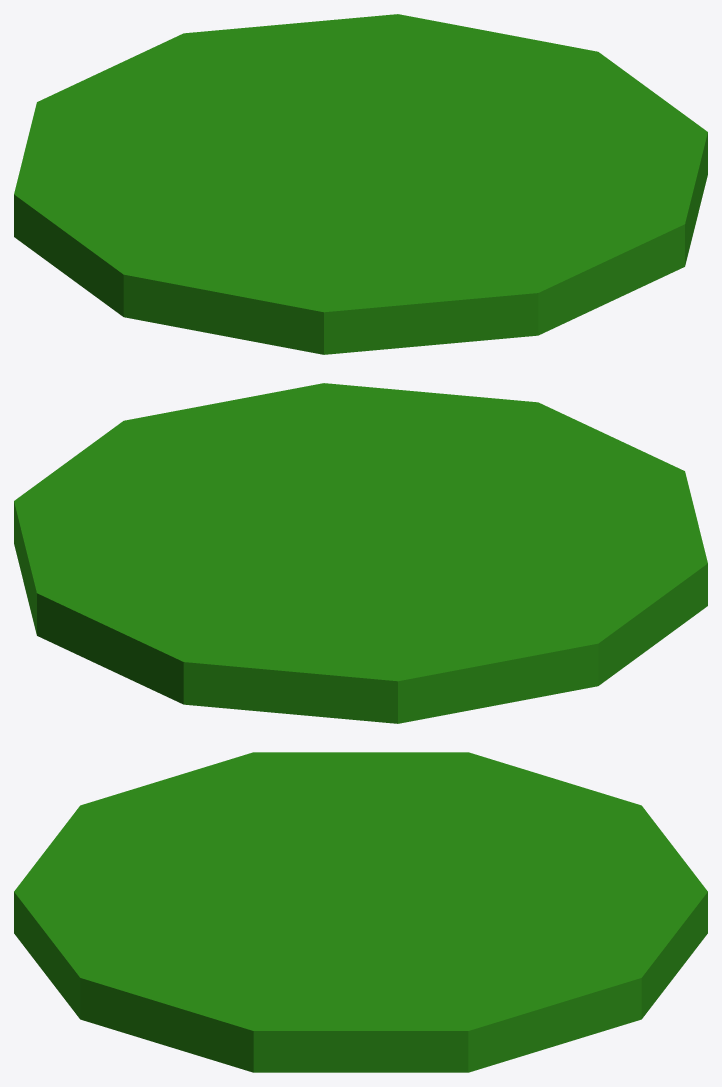
The model's file is fase-completa-verde.fbx.
3 views of the same model, one above another, from view 1: azimuth 30°, elevation 25°; view 2: azimuth 150°, elevation 25°; view 3: azimuth 270°, elevation 25° (orthographic). The views are drawn at different scales.
Parts seen in each view (by area): view 1: base-verde; view 2: base-verde; view 3: base-verde.
Boxes of the visible parts, bbox=[...] form: base-verde: bbox=[14, 14, 707, 354]; base-verde: bbox=[14, 383, 707, 723]; base-verde: bbox=[14, 752, 707, 1072].
Bounding box in the file's own units: 14.28 × 0.9951 × 15.02.
